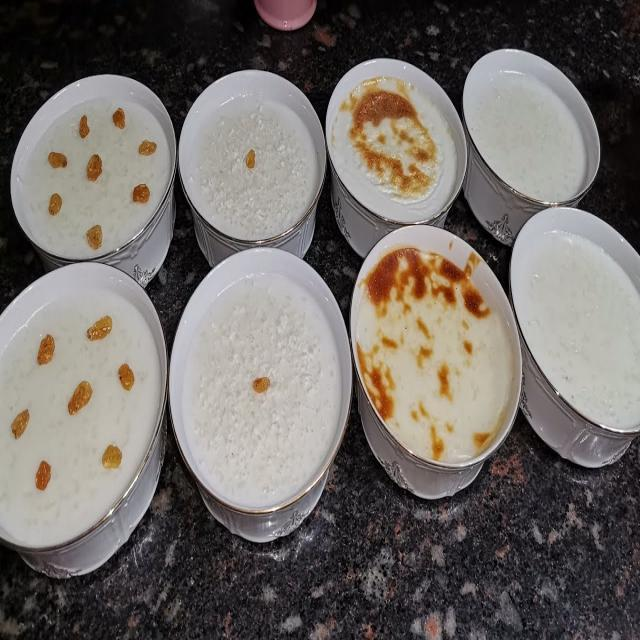roz blabn: (179, 253, 340, 547), (2, 261, 162, 553), (518, 211, 640, 458), (16, 85, 174, 262), (184, 71, 325, 255), (461, 61, 599, 221)
